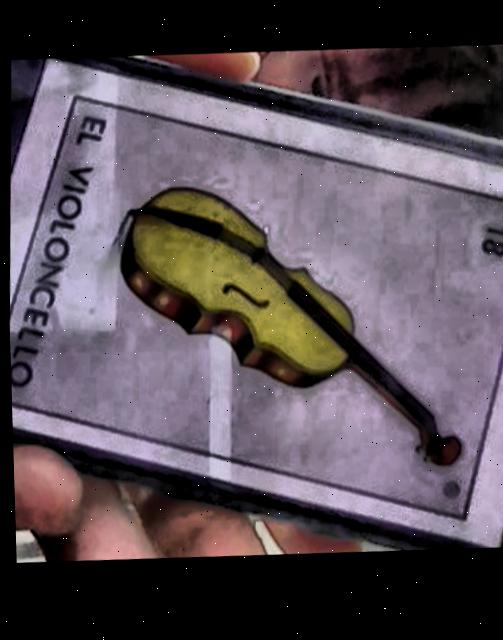El Violoncello: (7, 99, 503, 530)
